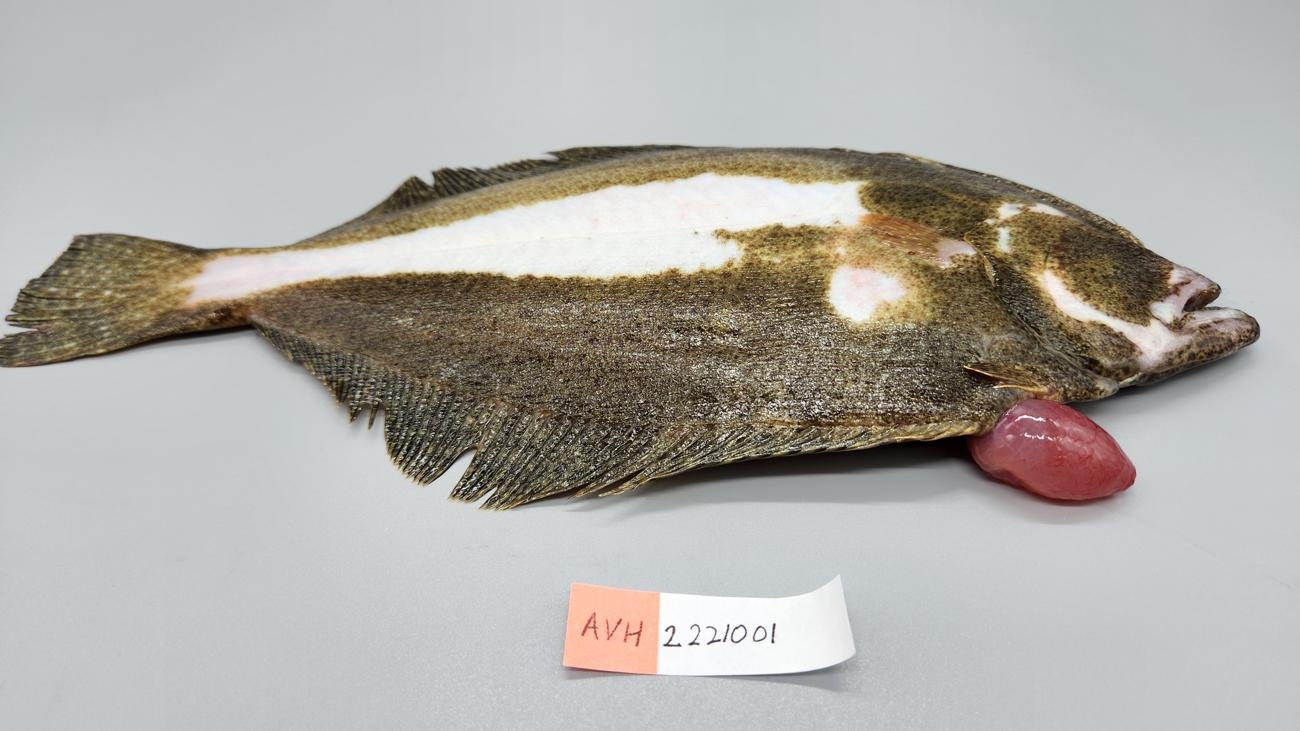VIDYH: (823, 208, 962, 324), (201, 276, 322, 327)
VIOUY: (0, 143, 1260, 507)
